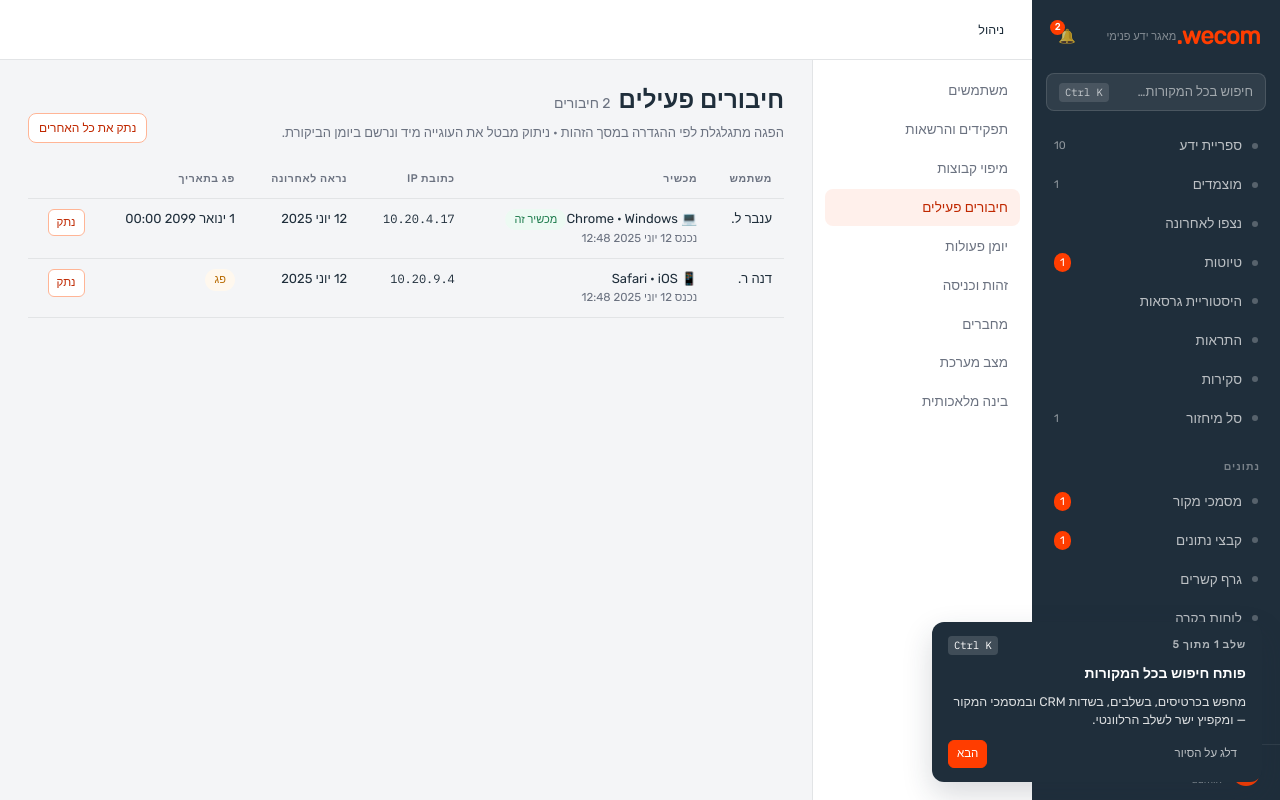
Test: admin · sessions › disconnects every other session but never the current one (3e)
The width and height of the screenshot is (1280, 800).
What coordinates should you click on to do the following:
click the button "נתק את כל האחרים"
I would click on:
 (88, 128)
Its box is [28,113,147,143].
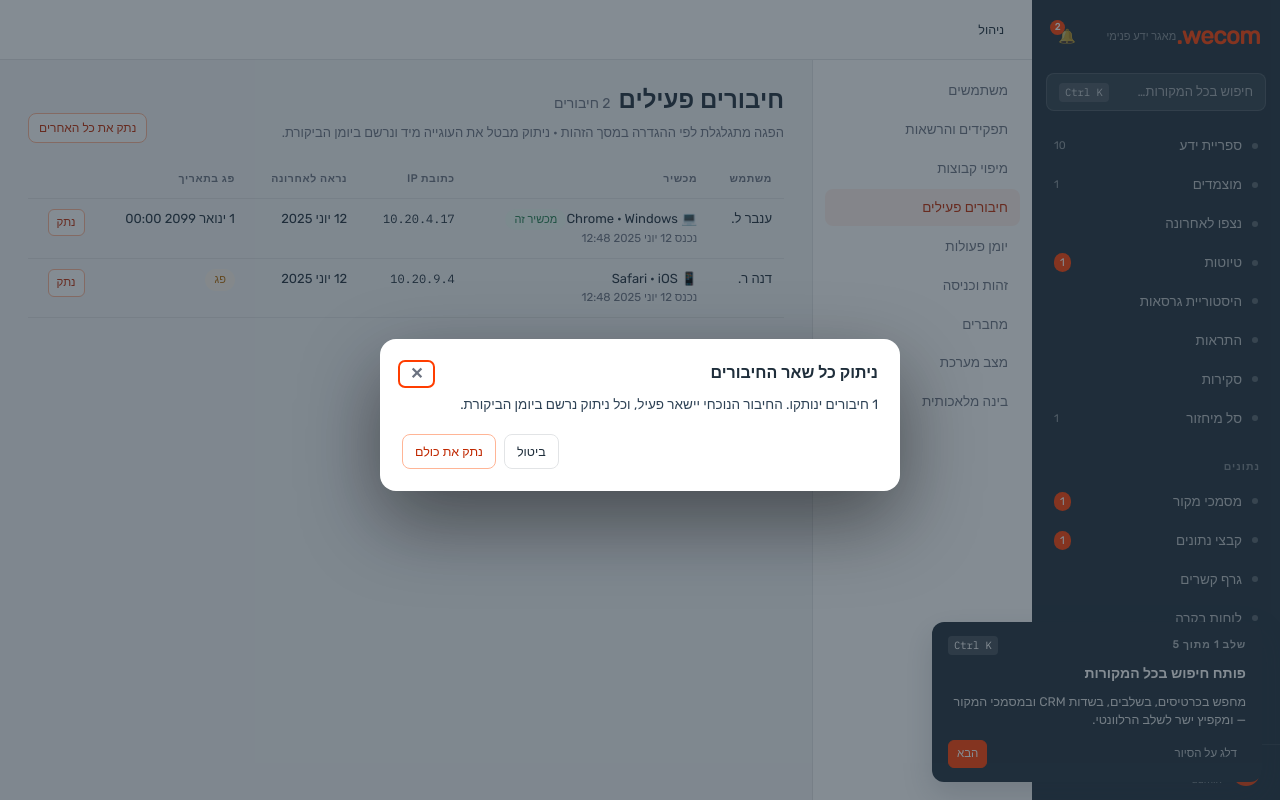
Expected: the text "החיבור הנוכחי יישאר פעיל" is shown, [460,396,878,412]
What coordinates should you click on to do the following:
click the button "נתק את כולם"
I would click on:
 (449, 451)
Its box is [402,434,496,469].
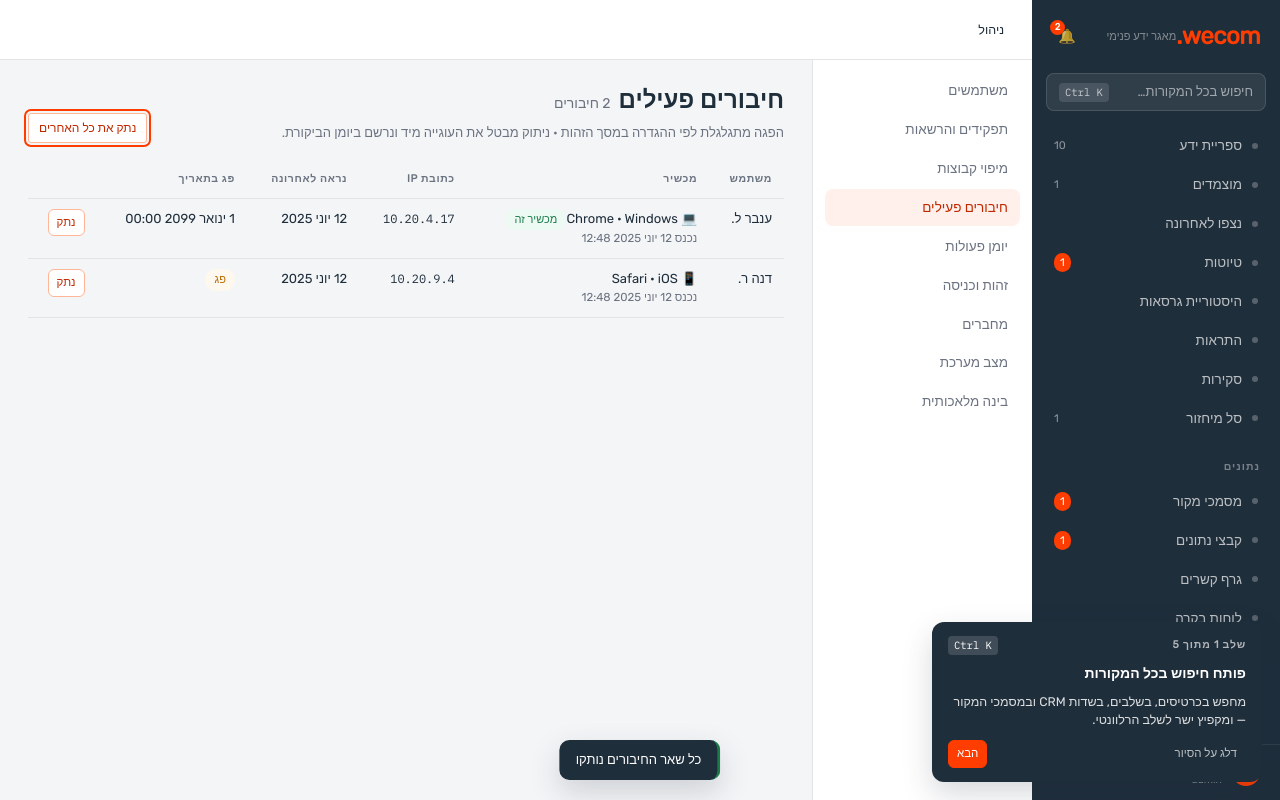
Expected: the text "כל שאר החיבורים נותקו" is shown, [576,750,701,770]
